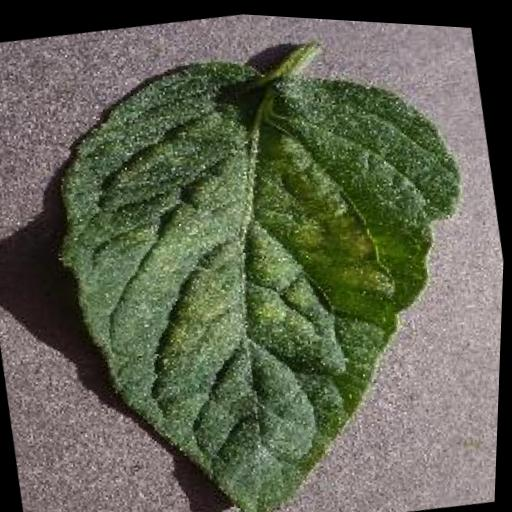Spider Mites: (28, 12, 512, 512)
